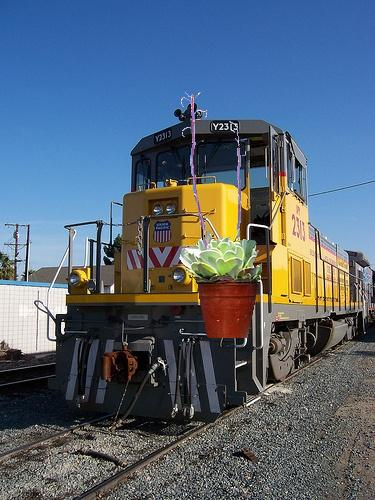tampered: (180, 92, 262, 338)
